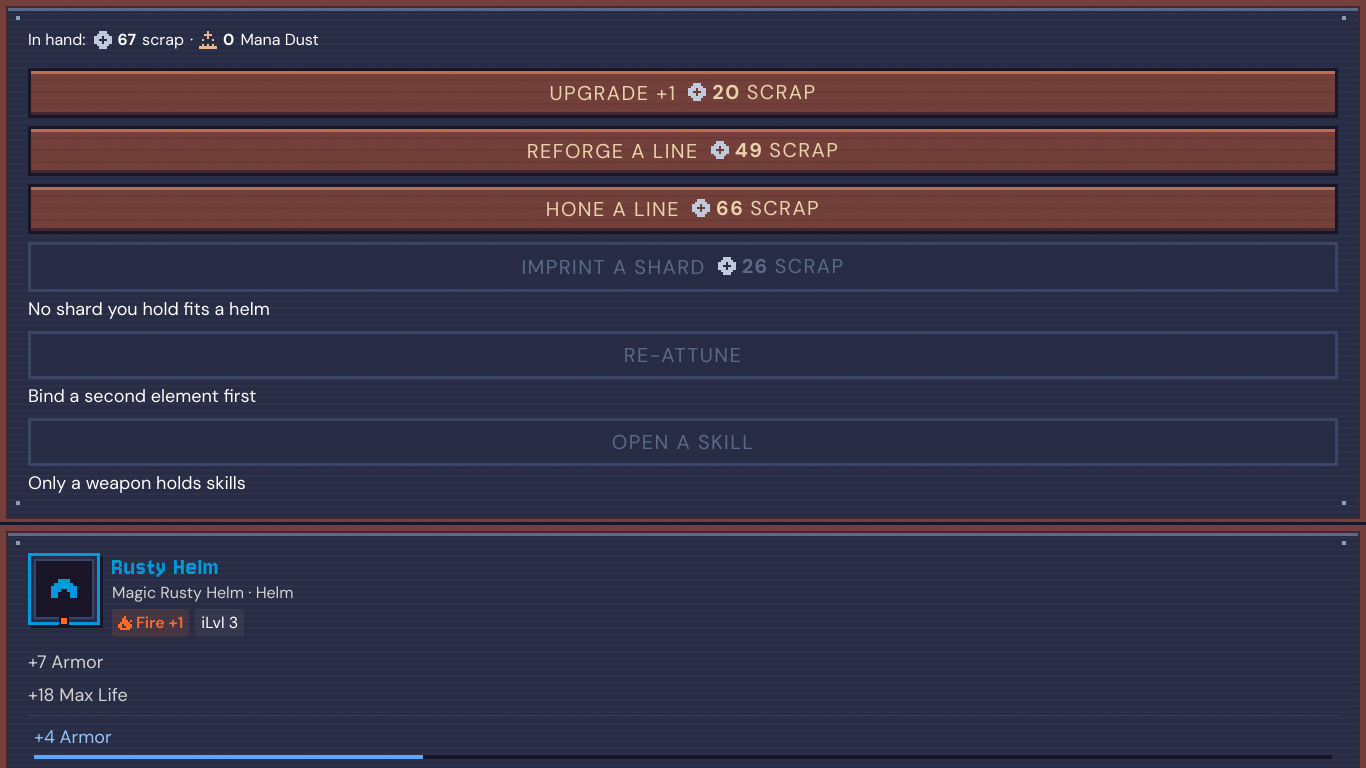
Scenario: Temper › hones a line through the engine, at its price, which grows with each hone
Click the button with test id "temper-op-hone": (683, 209) [28,184,1338,234]
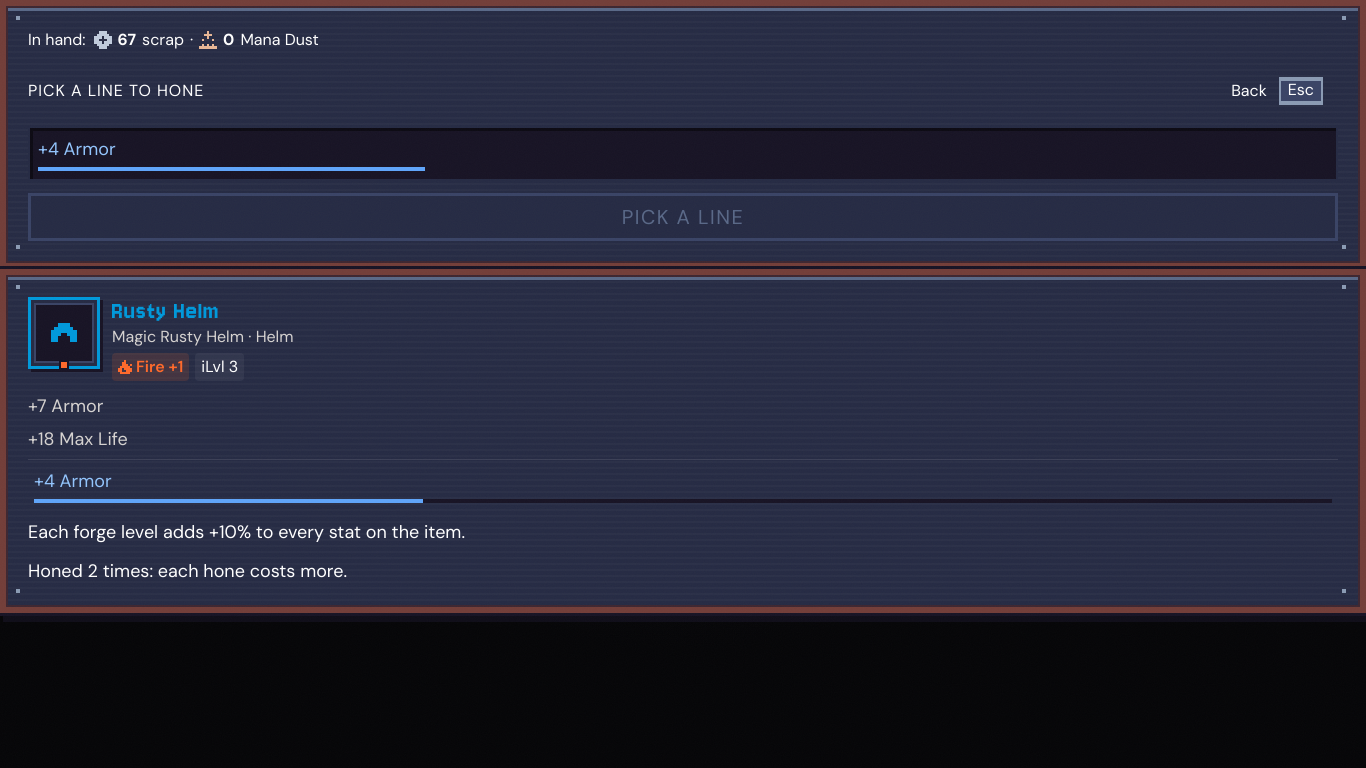
Expected: the text with test id "hone-count" reads "Honed 2 times: each hone costs more.", [28,559,347,583]
Now the button with test id "hone-button" reads "Pick a line", box [28,193,1338,241]
Click the button with test id "hone-line-0": (77, 149) [28,126,1338,181]
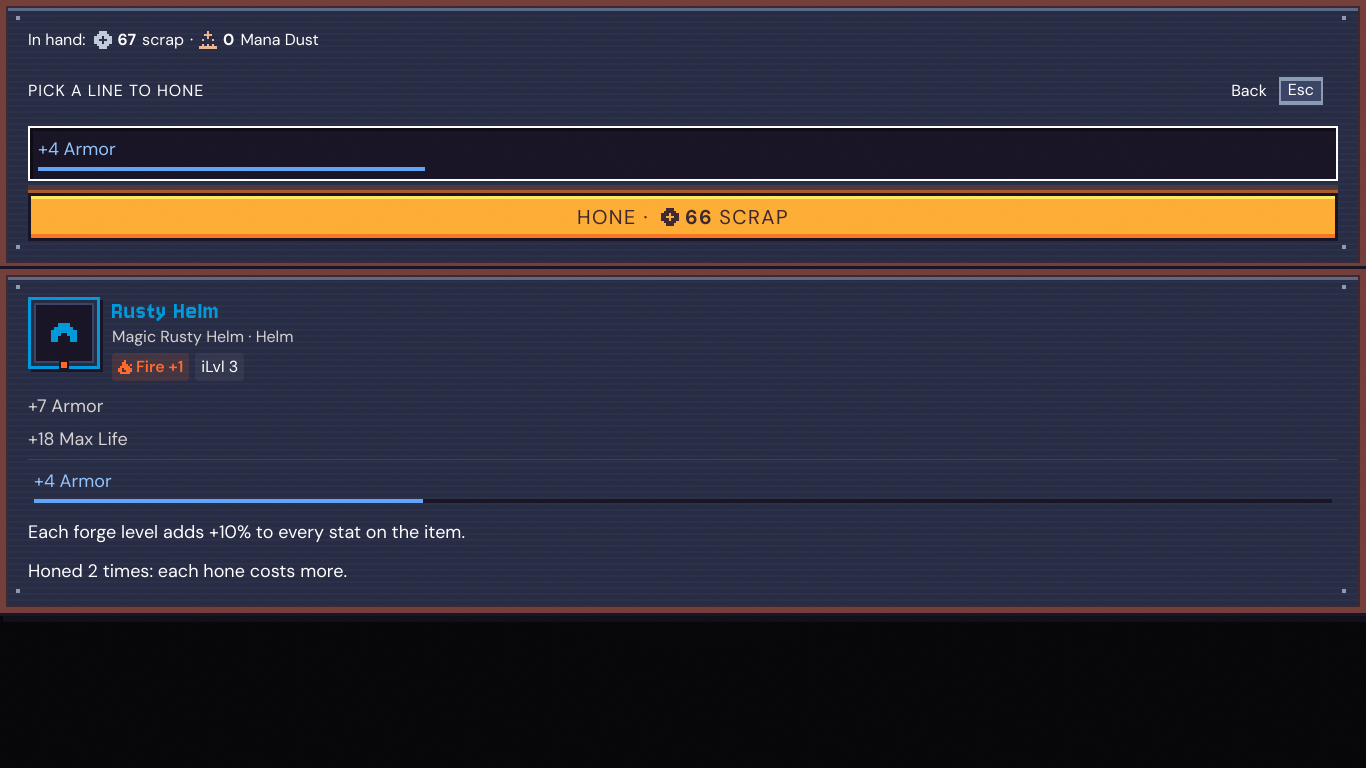
Click the button with test id "hone-button": (683, 217) [28,193,1338,241]
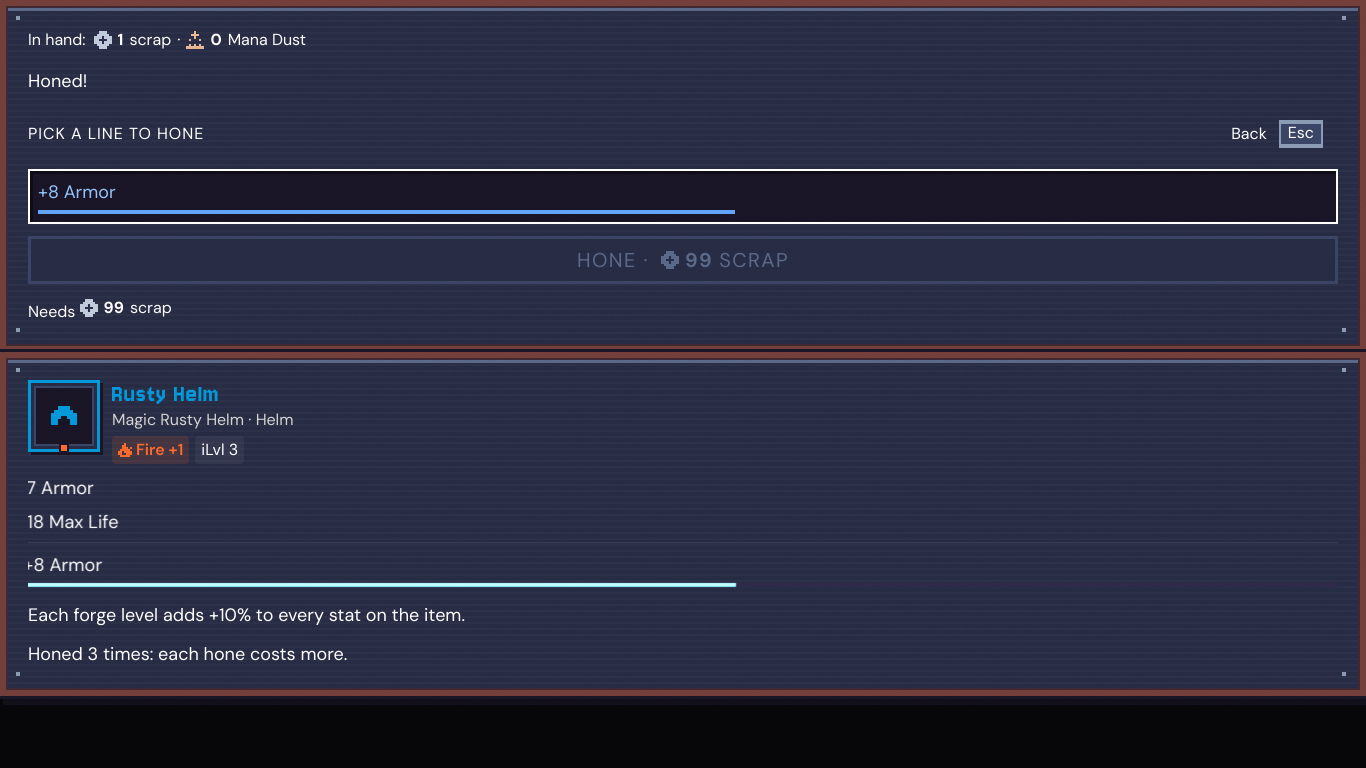
Now the message reads "Honed!", box [28,69,87,93]
Now the text with test id "hone-count" shows "Honed 3 times", box [28,642,347,666]
